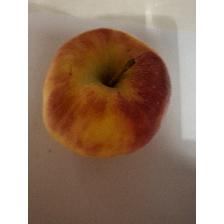Apfel: (42, 27, 174, 160)
